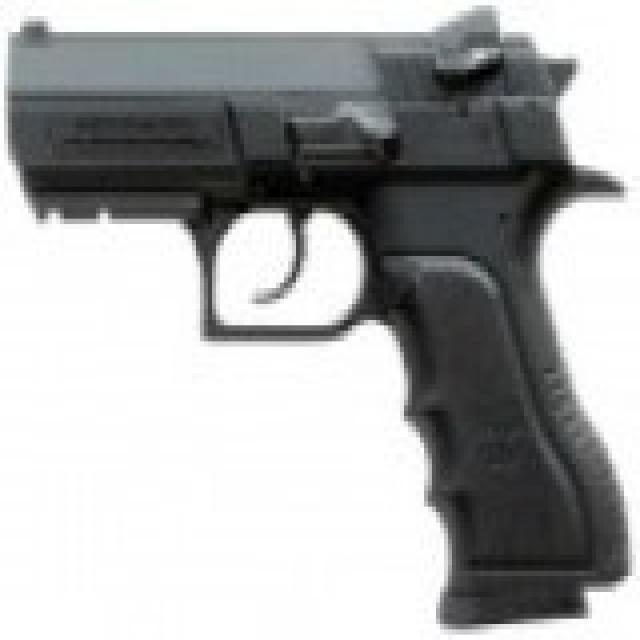gun: (0, 9, 640, 620)
